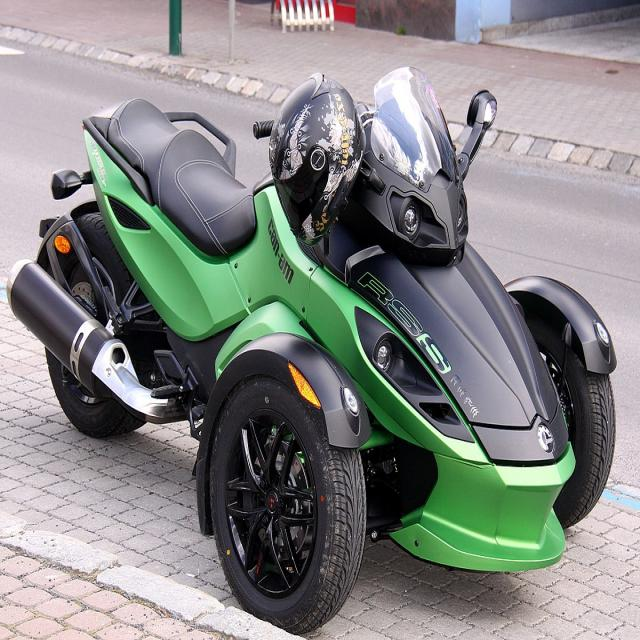Bike: (7, 67, 618, 638)
